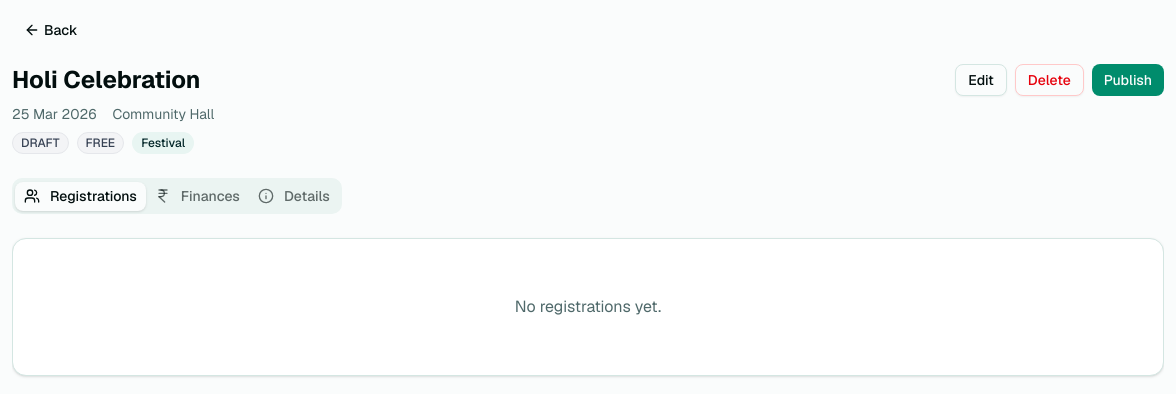
Admin EventDetailPage › shows 'free event' message in finances tab
Expected: the heading "Holi Celebration" is shown, [12,64,214,96]
Step 1. Click the tab "Finances" → (197, 196), box [146,182,249,210]
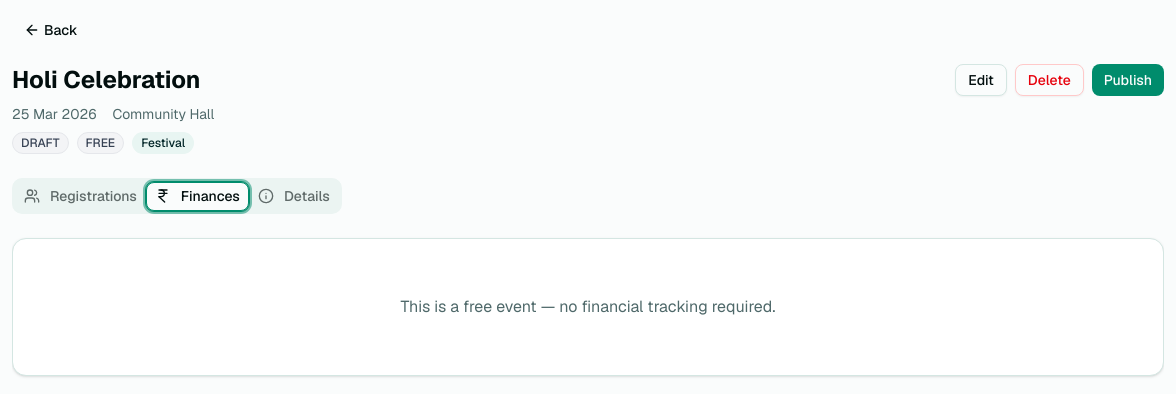
Now the text "This is a free event — no financial tracking required." is shown, box [401,296,775,317]
